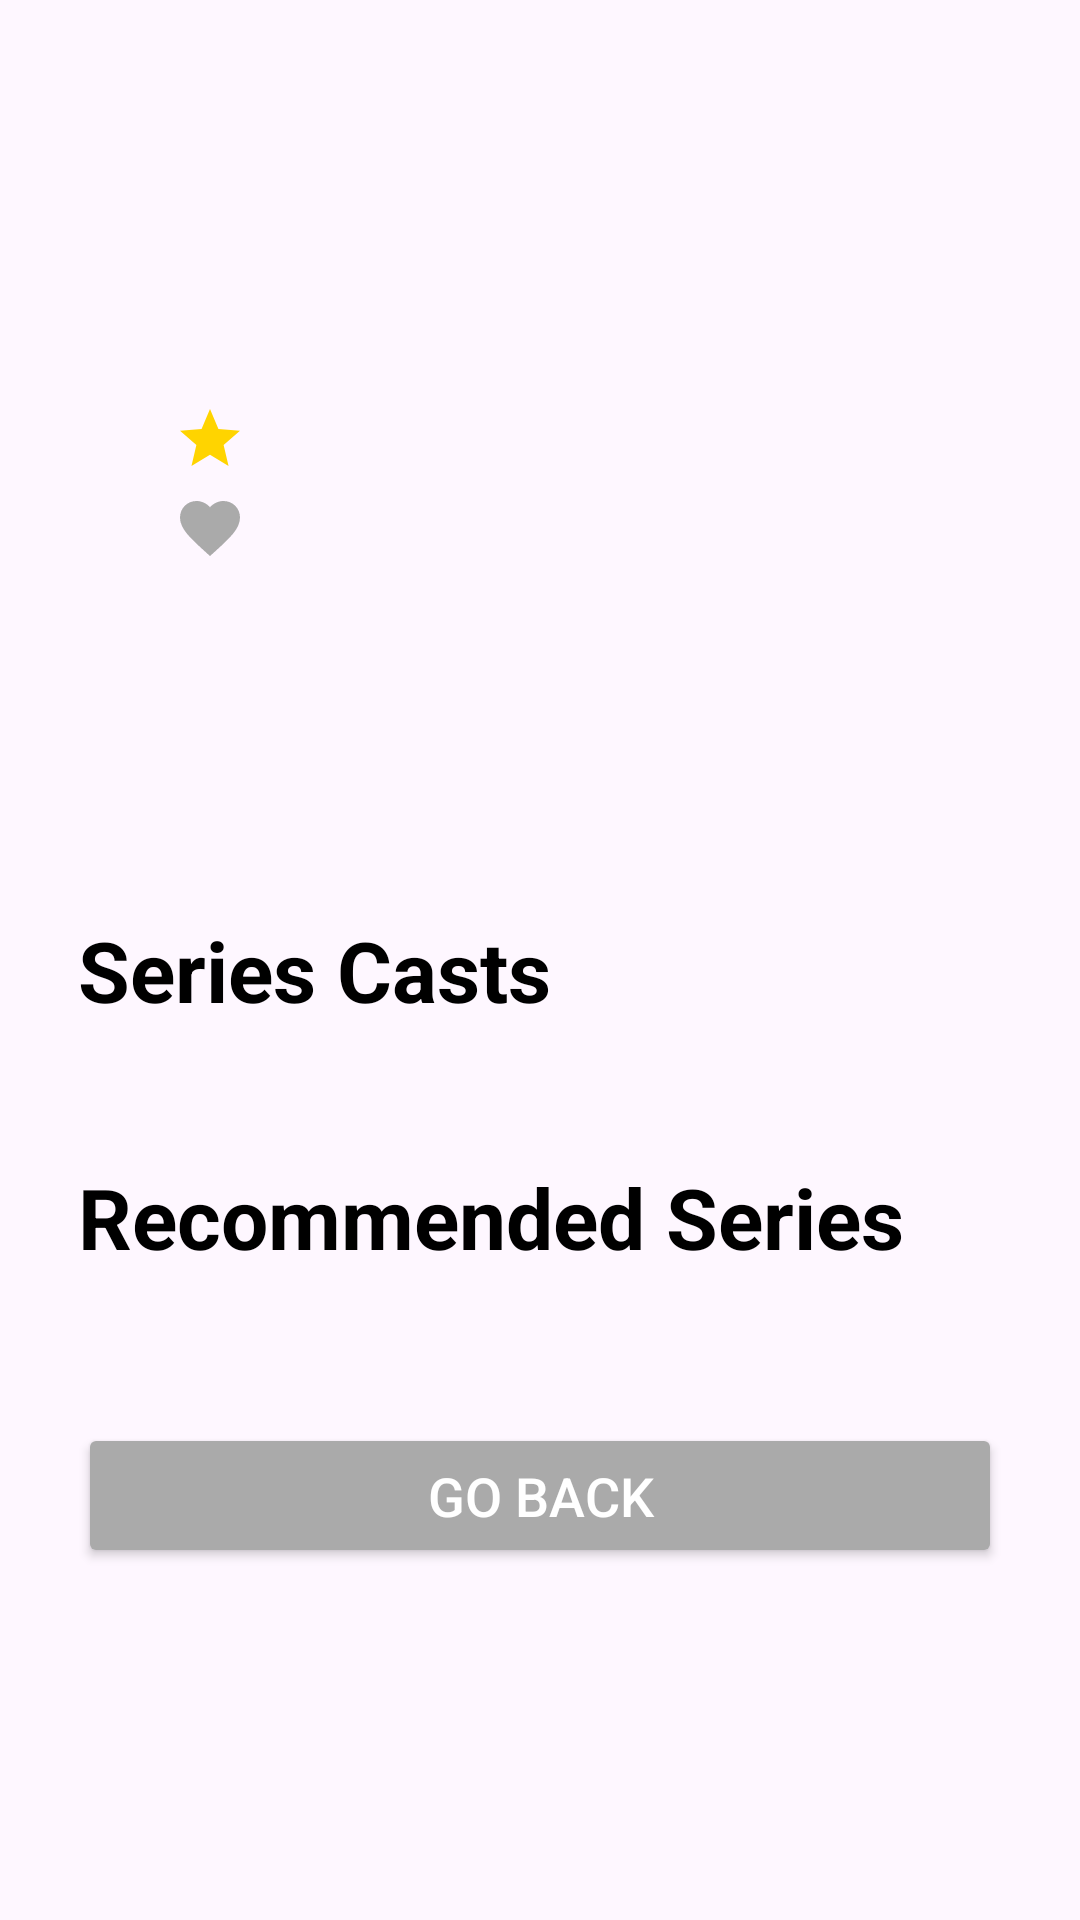

Locate icon controls on the screen. Image size 1080x1920, boxes as box=[x1, y1, x2, y2].
Favorite Button: box=[180, 501, 240, 556]
star: box=[180, 409, 240, 466]
